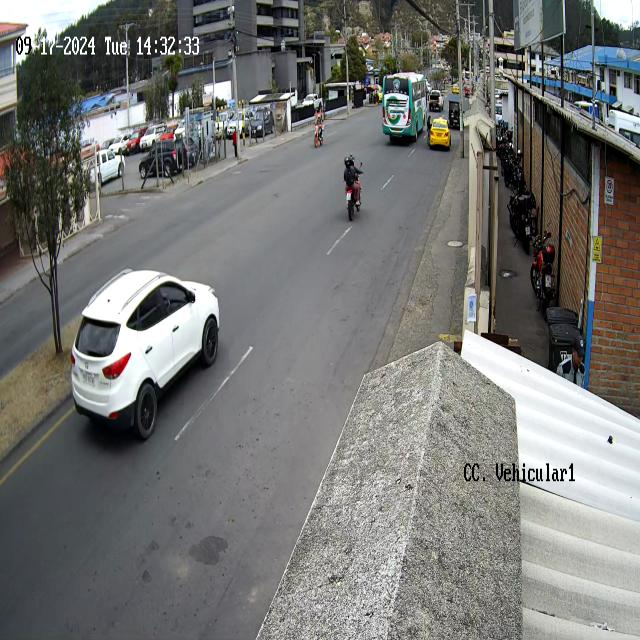BUS: (382, 71, 428, 140)
SED: (429, 118, 452, 149)
SUV: (70, 269, 221, 441)
